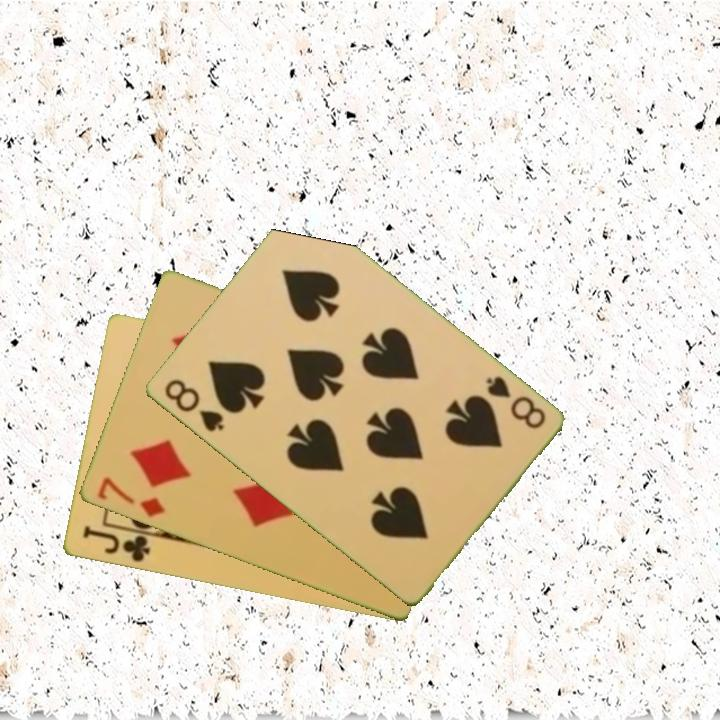7d: (93, 473, 167, 520)
8s: (481, 372, 548, 432), (160, 375, 226, 435)
Jc: (78, 522, 153, 565)
